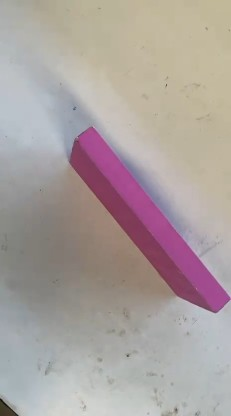pink: (71, 156, 212, 344)
